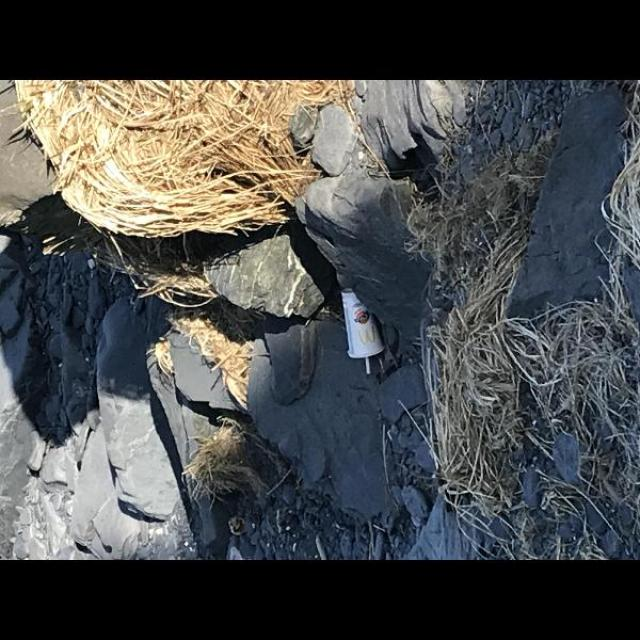plastic_waste: (308, 279, 420, 385)
stubble_waste: (32, 71, 285, 230), (436, 237, 551, 501)
